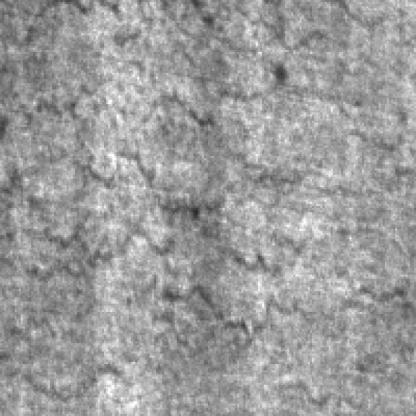crazing: (0, 50, 212, 410), (83, 223, 381, 387), (110, 66, 368, 229)
